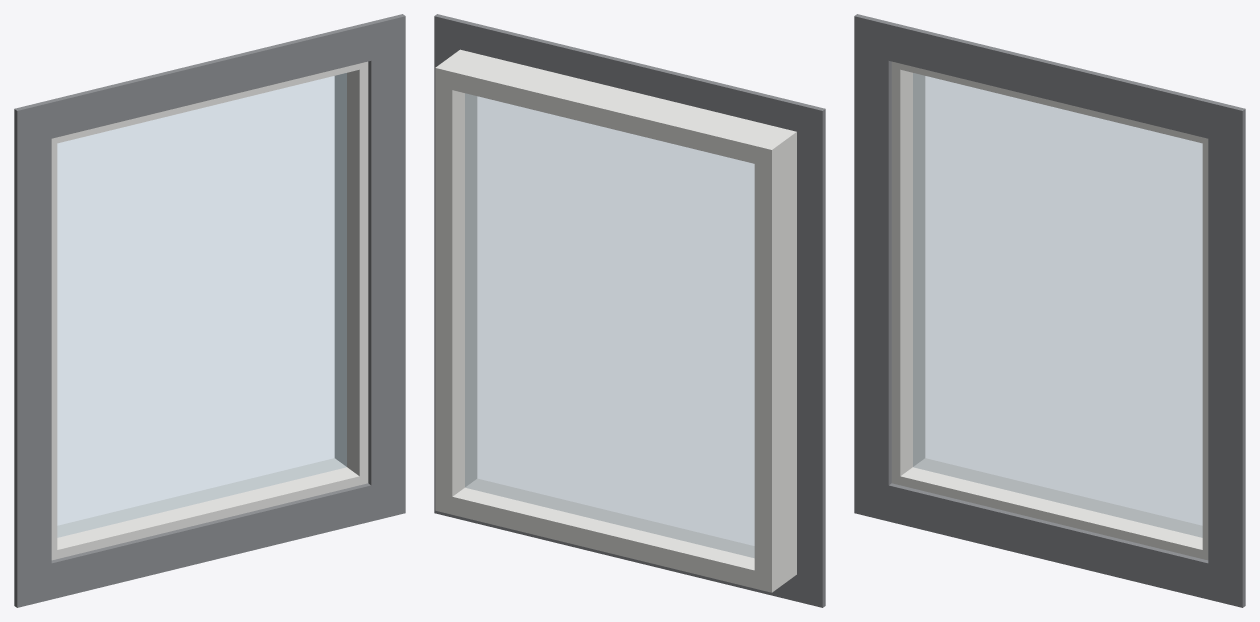
Rendered from mod_window_velux.glb.
3 views of the same model, side by side, from view 1: azimuth 30°, elevation 25°; view 2: azimuth 150°, elevation 25°; view 3: azimuth 330°, elevation 25° (orthographic).
Parts seen in each view (by area): view 1: glass, flashing, frame_right, frame_bottom, frame_left, frame_top; view 2: glass, flashing, frame_left, frame_right, frame_top, frame_bottom; view 3: glass, flashing, frame_left, frame_bottom, frame_right, frame_top.
Part boxes in pixels (x1,y1,x2,y2): glass: [57, 73, 346, 537]; flashing: [14, 14, 405, 607]; frame_right: [334, 67, 368, 476]; frame_bottom: [51, 458, 368, 560]; frame_left: [51, 143, 57, 551]; frame_top: [51, 61, 368, 144]; glass: [465, 93, 754, 557]; flashing: [434, 14, 825, 607]; frame_left: [754, 150, 796, 574]; frame_right: [435, 86, 477, 496]; frame_top: [435, 49, 796, 167]; frame_bottom: [435, 478, 796, 592]; glass: [913, 73, 1202, 537]; flashing: [854, 14, 1245, 607]; frame_left: [891, 67, 925, 476]; frame_bottom: [891, 458, 1208, 560]; frame_right: [1202, 143, 1208, 551]; frame_top: [891, 61, 1208, 144].
Size of the model in its own units: 0.9 by 1.1 by 0.112.
